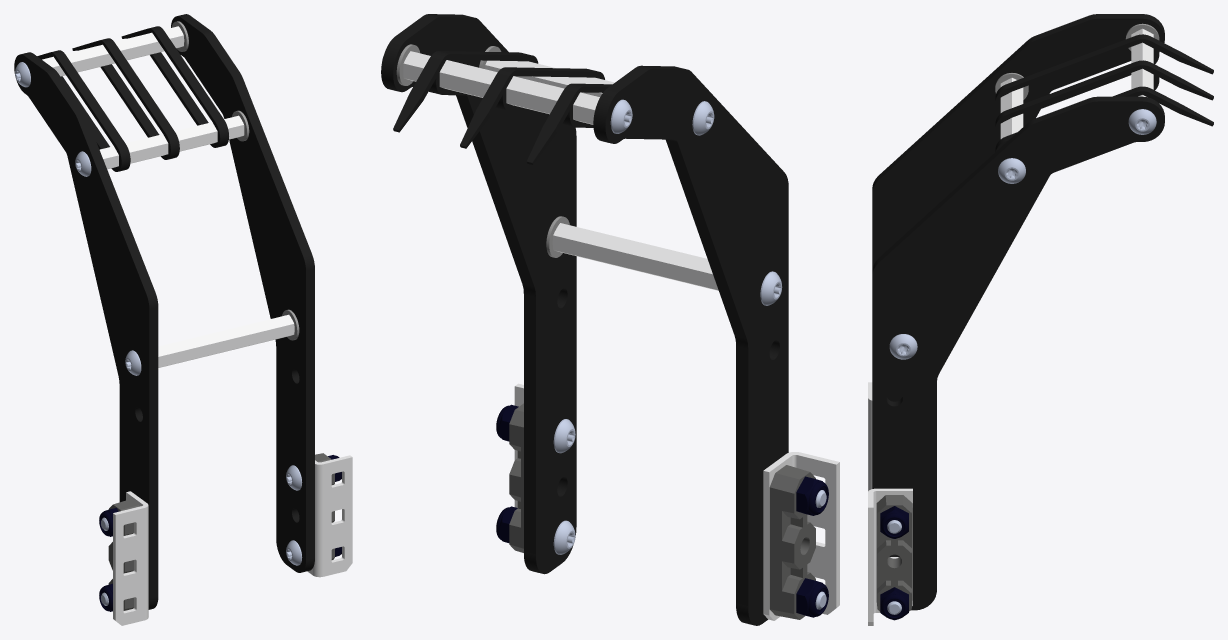
Rendered from Hood Assembly.fbx.
3 renders of one model, left to right at view 1: azimuth 30°, elevation 25°; view 2: azimuth 150°, elevation 25°; view 3: azimuth 270°, elevation 25°, orthographic. The views are drawn at different scales.
Visible parts, largest first — view 1: Body3 (×3), Body1 (×4), Body2 (×4); view 2: Body3 (×3), Body1 (×6), Body2 (×4); view 3: Body3 (×3), Body1 (×9), Body2 (×3).
Boxes of the visible parts, x1,y1,x2,y2 form: Body3 (×3): (14, 14, 314, 609); Body1 (×4): (108, 26, 352, 625); Body2 (×4): (37, 26, 294, 367); Body3 (×3): (381, 14, 788, 625); Body1 (×6): (393, 51, 839, 620); Body2 (×4): (403, 51, 718, 290); Body3 (×3): (872, 14, 1213, 610); Body1 (×9): (868, 86, 1213, 625); Body2 (×3): (995, 28, 1213, 138).
Size of the model in its own units: 3.31 by 6.27 by 3.86.
